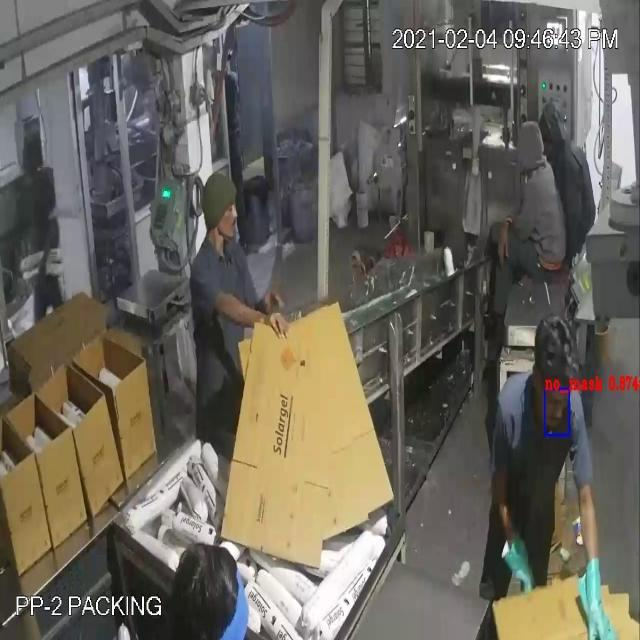No_Gloves: (50, 65, 600, 583)
